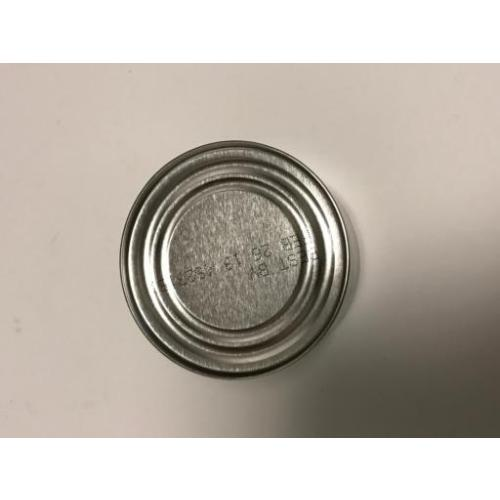metal: (118, 141, 349, 380)
